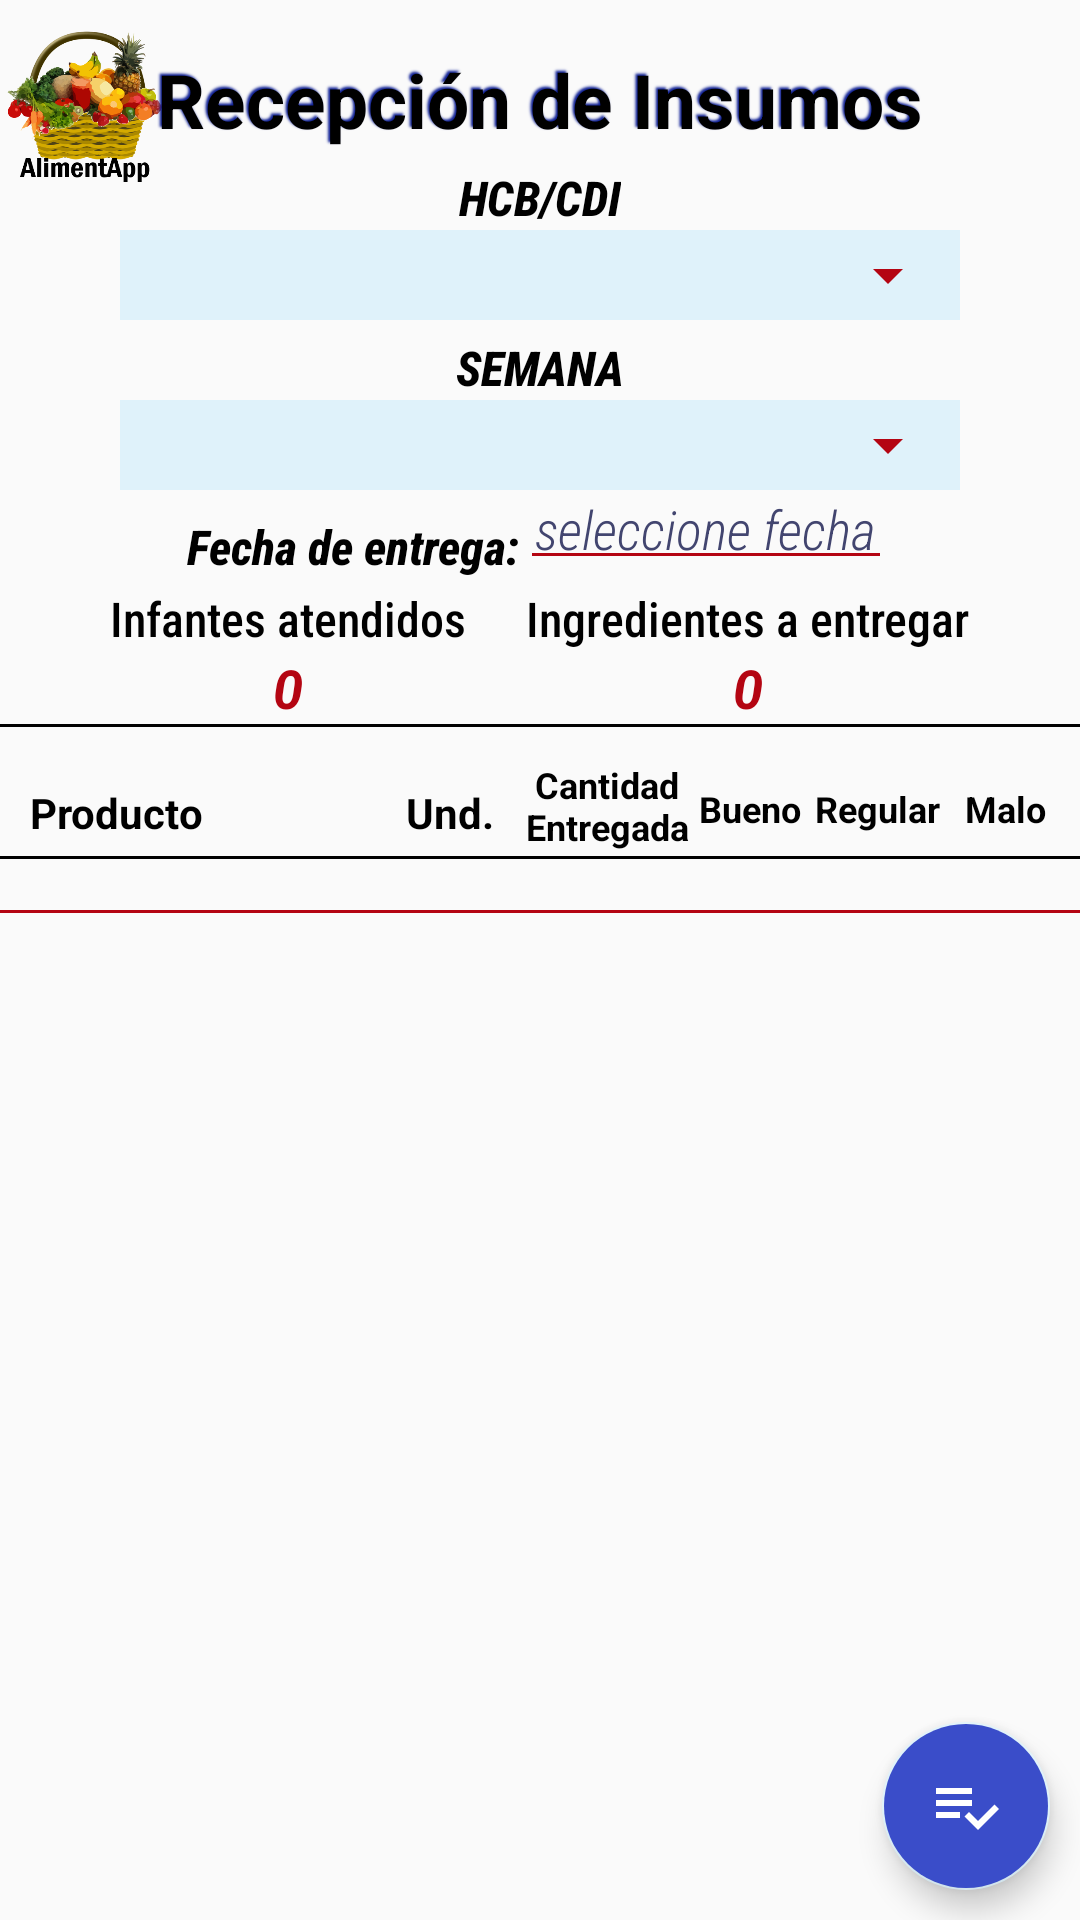

Where to tap for icons on this 1080x1920 app screen, as (x,y):
iconosuperior: (86,106)
saver: (966,1807)
